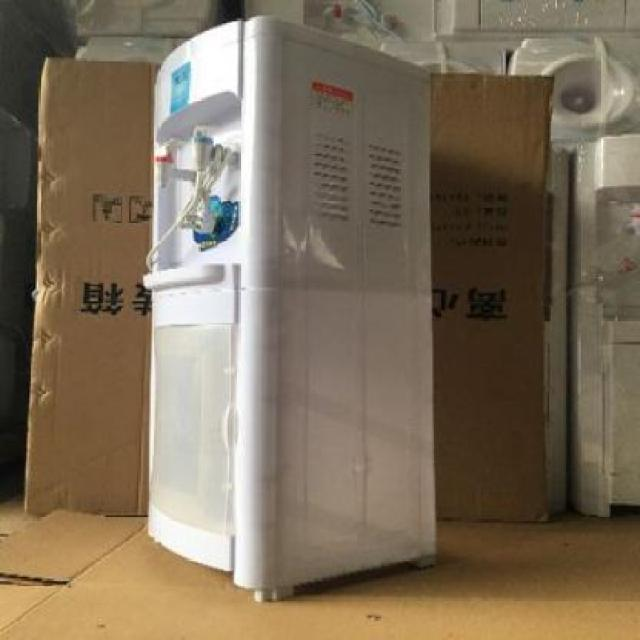cooler: (143, 14, 439, 606)
